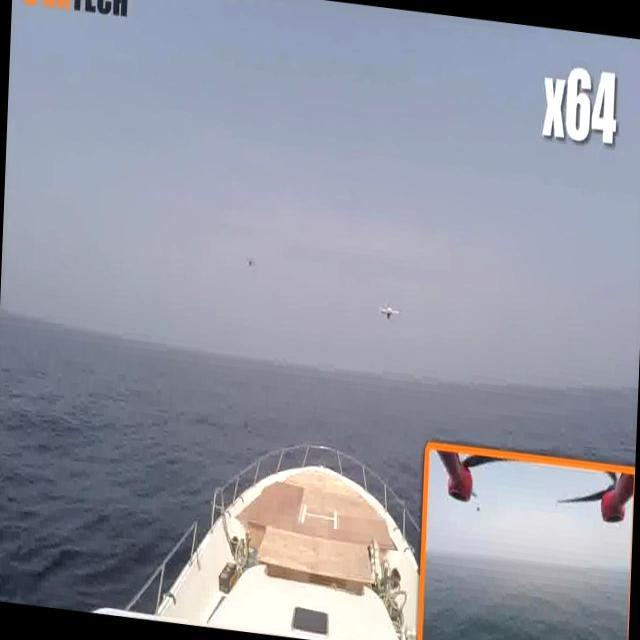drone: (375, 298, 403, 323), (244, 252, 260, 274)
